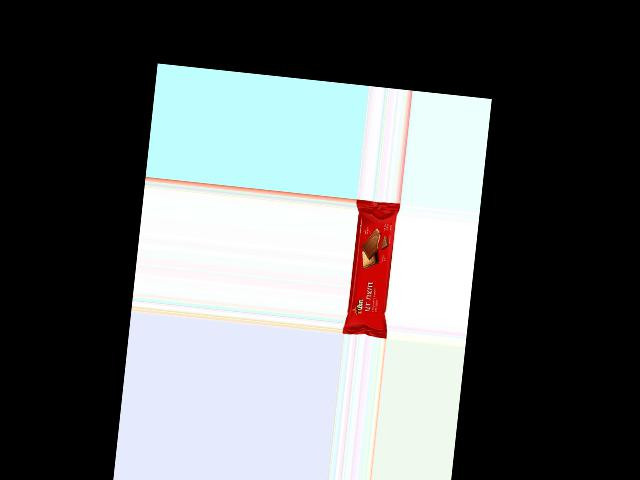chocolate: (343, 200, 401, 335)
